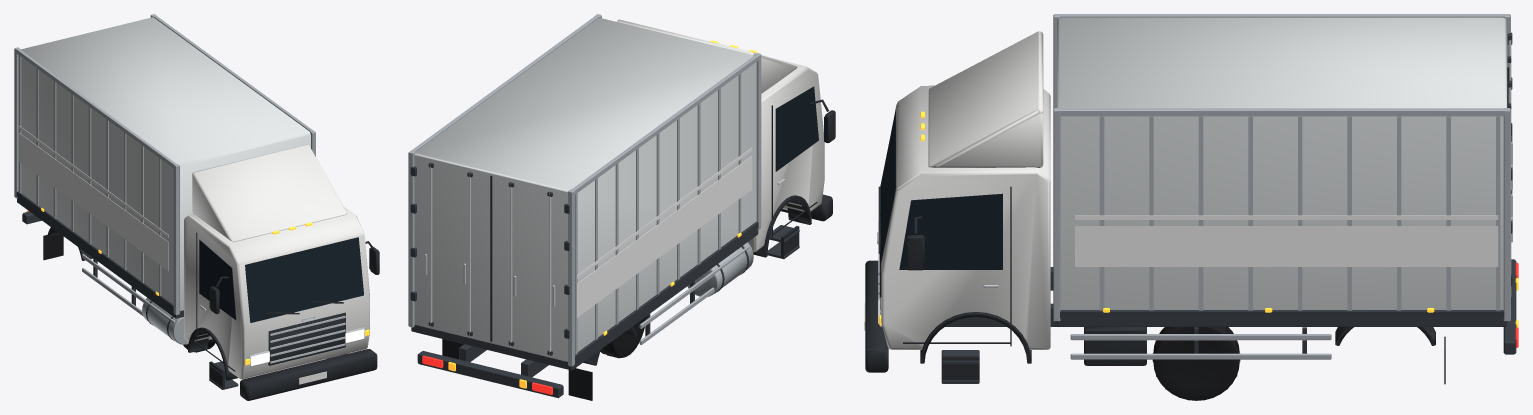
The model's file is vehicle_truck.glb.
3 views of the same model, side by side, from view 1: azimuth 30°, elevation 25°; view 2: azimuth 150°, elevation 25°; view 3: azimuth 270°, elevation 25° (orthographic). The views are drawn at different scales.
Visible parts, largest first — view 1: truck_body, livery; view 2: truck_body, livery, wheel; view 3: truck_body, livery, wheel.
Part boxes in pixels (box(x1,y1,x2,y2)): truck_body: box(14, 14, 379, 400); livery: box(19, 125, 168, 271); truck_body: box(408, 14, 835, 400); livery: box(576, 147, 752, 317); wheel: box(600, 317, 645, 358); truck_body: box(864, 14, 1518, 384); livery: box(1075, 215, 1498, 266); wheel: box(1152, 327, 1240, 400).
Size of the model in its own units: 2.97 by 4.11 by 7.27.
1 material, 1 textured.
